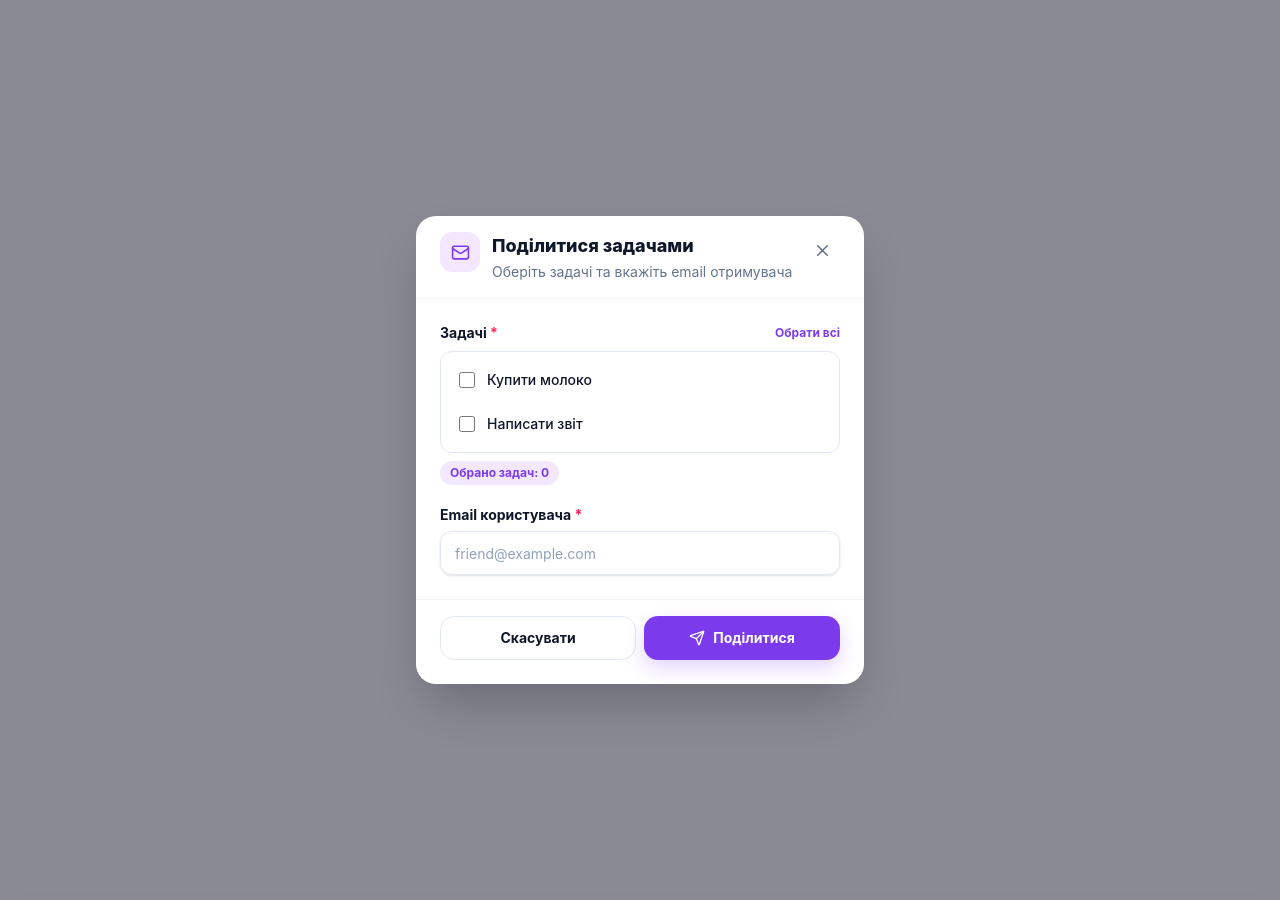
Test: ShareTaskModal (ShareModal) › shows validation errors when submitting empty form
Click the button "Поділитися" at (742, 638), box [644,616,840,660]
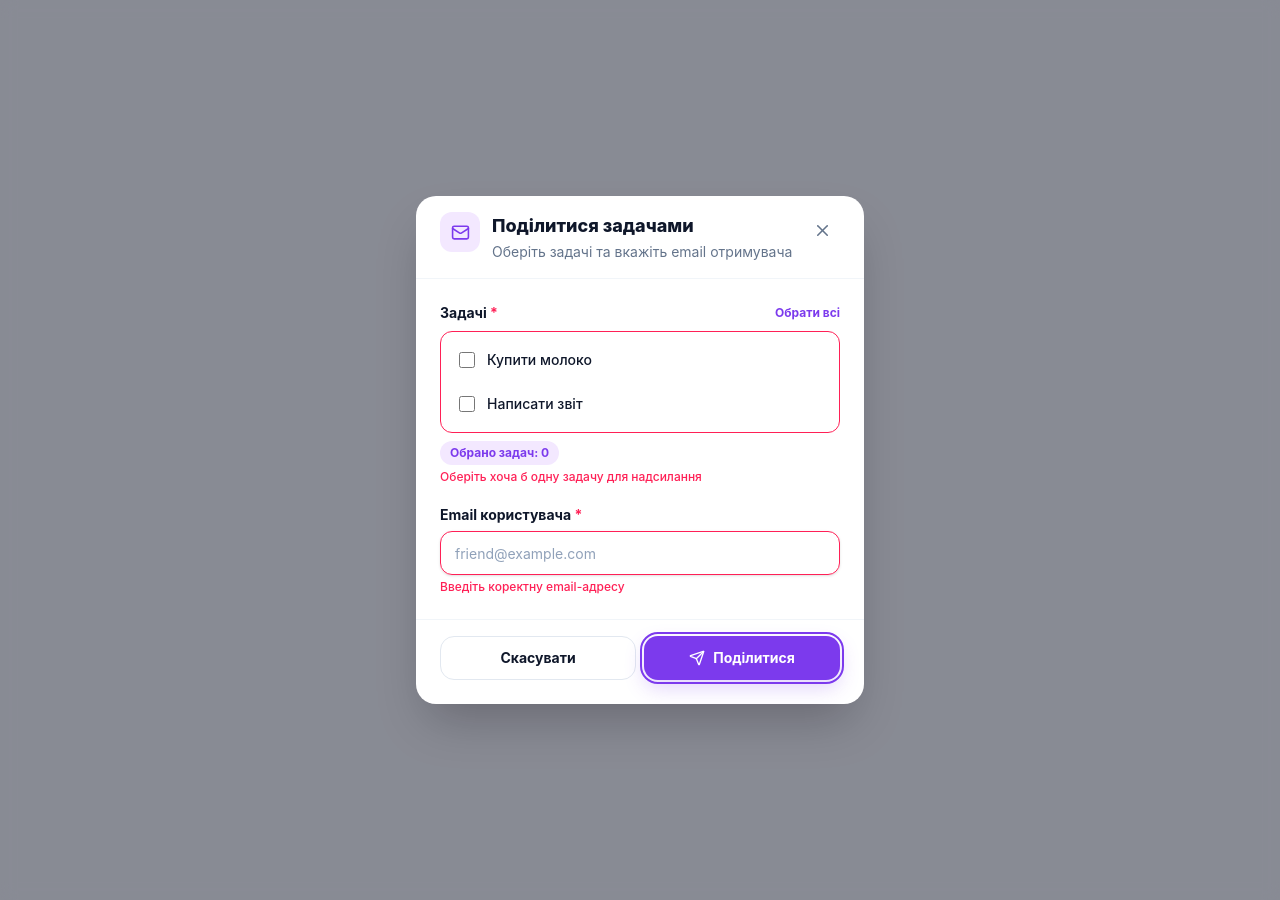
Expected: the text "Оберіть хоча б одну задачу для надсилання" is shown, [440,469,702,484]
Expected: the text "Введіть коректну email-адресу" is shown, [440,579,625,594]
